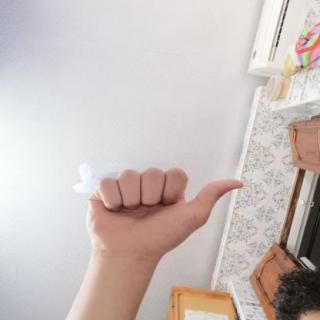DAD: (77, 161, 250, 265)
